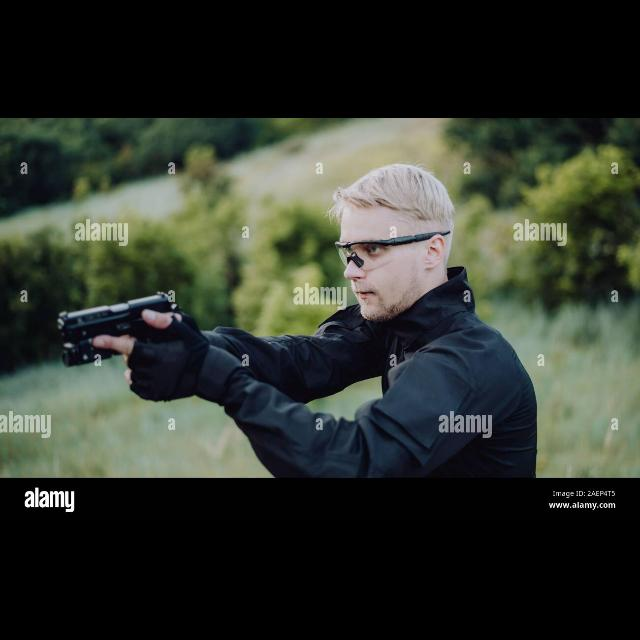handgun: (54, 290, 186, 370)
